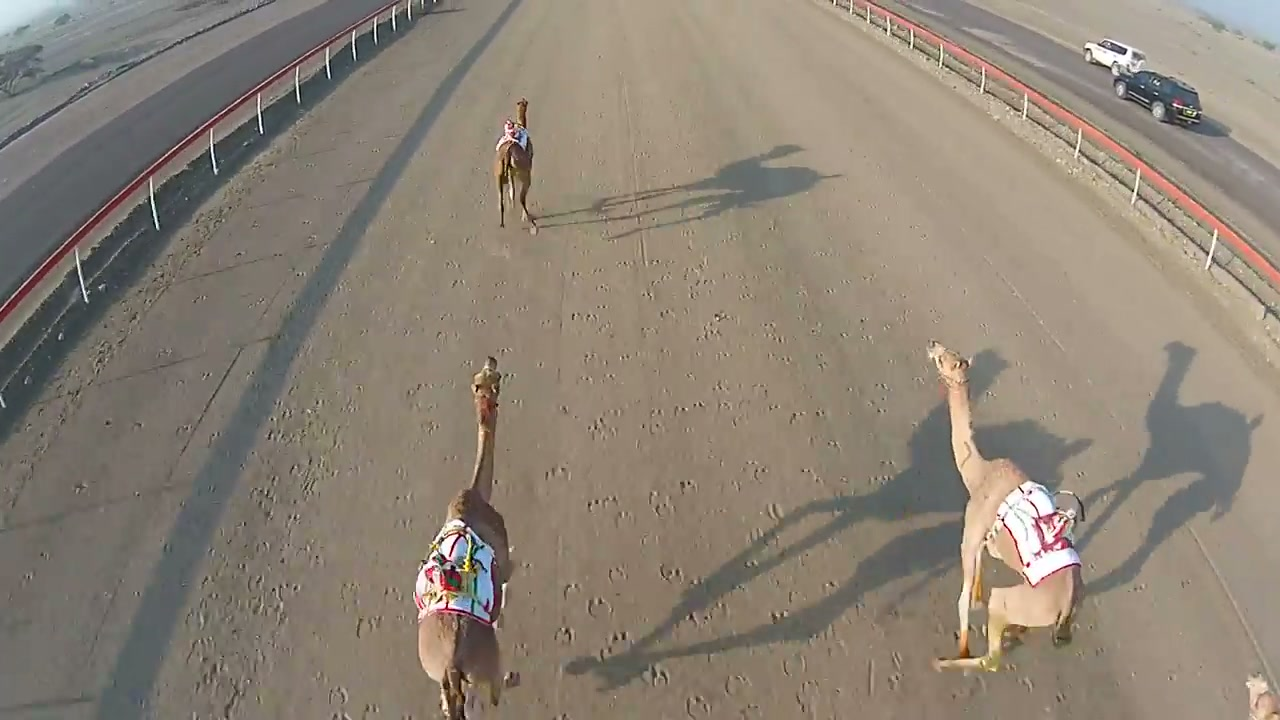animal_footprint: (673, 271, 1097, 719), (337, 211, 537, 706), (539, 320, 771, 719)
